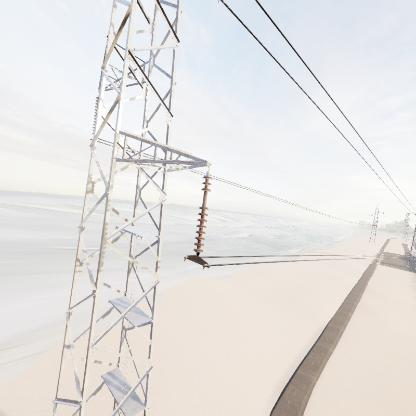insulator: (189, 173, 214, 256)
